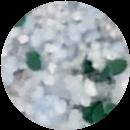Basil: (94, 59, 127, 83), (80, 101, 115, 122), (27, 52, 45, 76)
